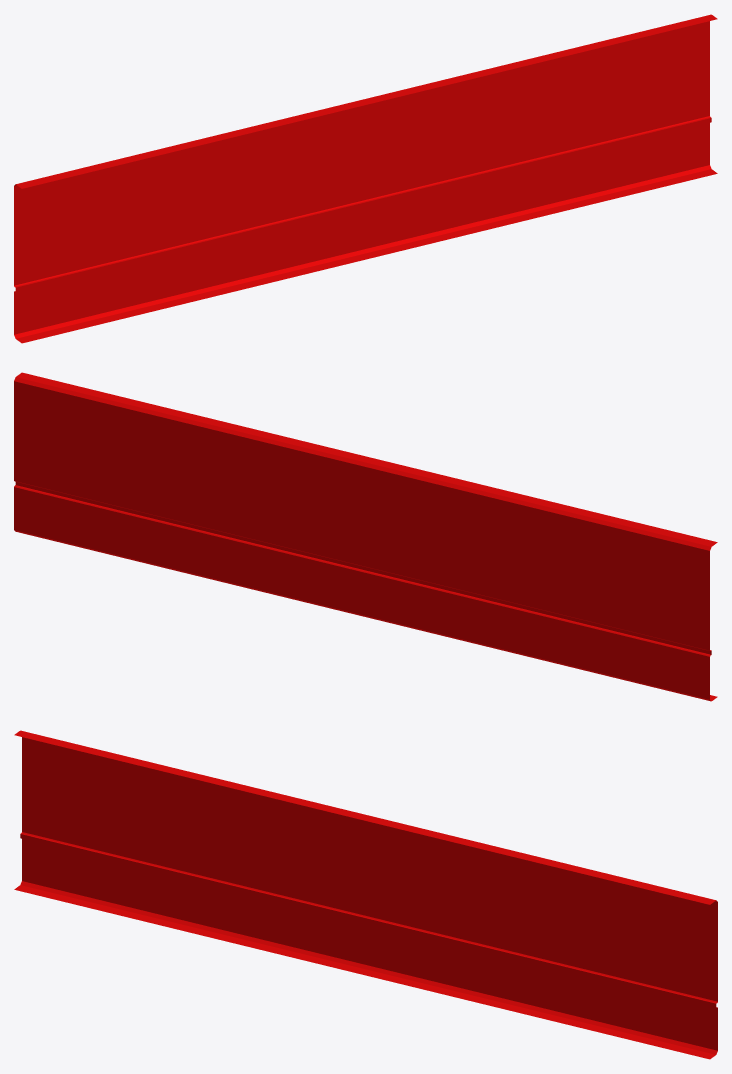
File: Bottom_wall_2.fbx
3 views of the same model, one above another, from view 1: azimuth 30°, elevation 25°; view 2: azimuth 150°, elevation 25°; view 3: azimuth 330°, elevation 25° (orthographic).
Parts seen in each view (by area): view 1: L17:polySurface1; view 2: L17:polySurface1; view 3: L17:polySurface1.
Boxes of the visible parts, box(x1,y1,x2,y2) form: L17:polySurface1: box(14, 14, 717, 343); L17:polySurface1: box(14, 372, 717, 701); L17:polySurface1: box(14, 730, 717, 1059).
Size of the model in its own units: 503 by 107 by 9.95.
